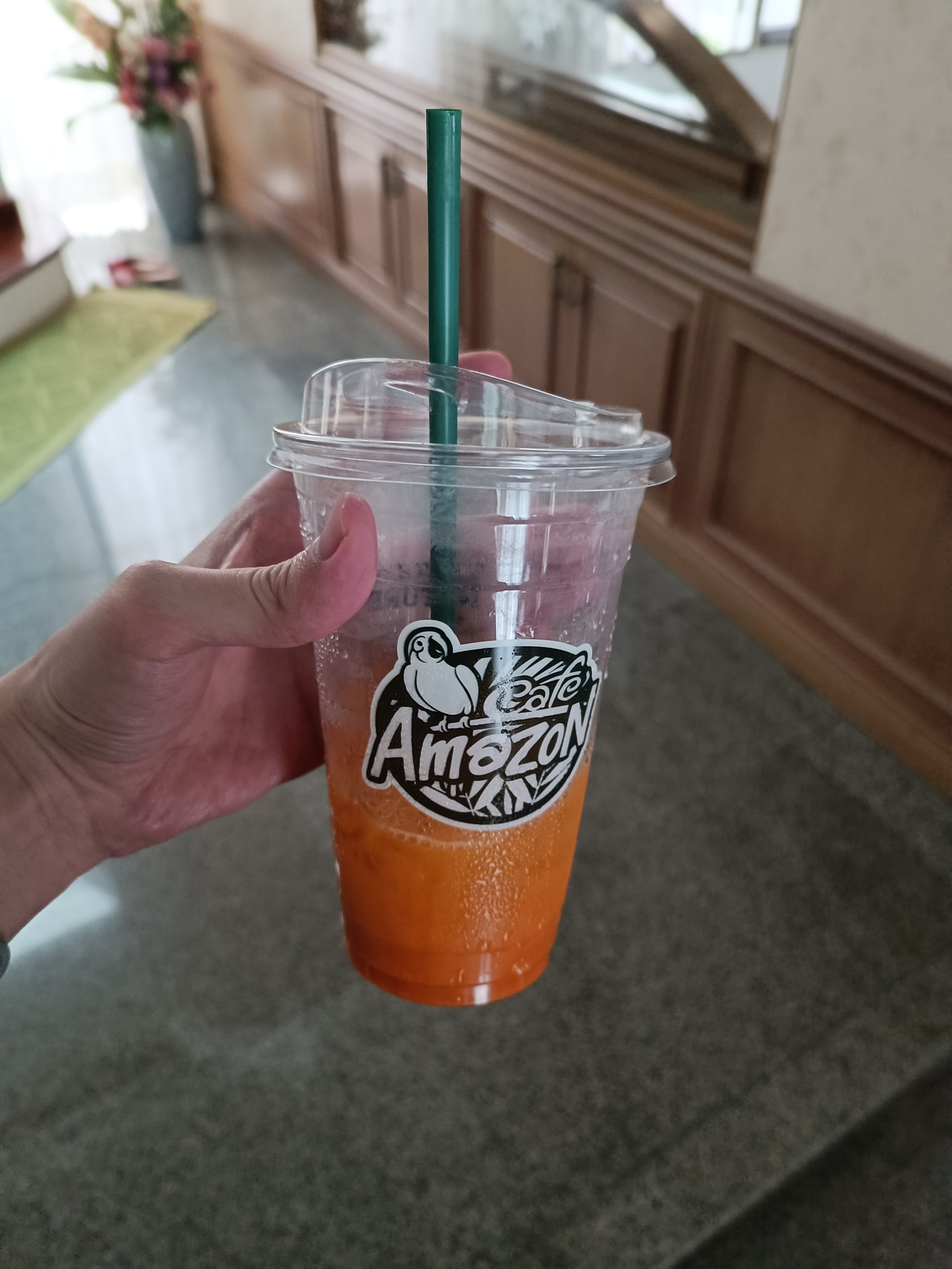plastic: (260, 97, 683, 1022)
